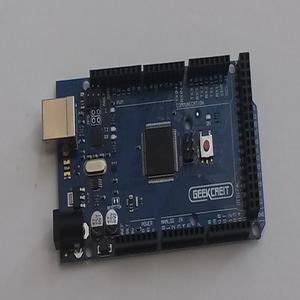duino: (37, 28, 272, 280)
